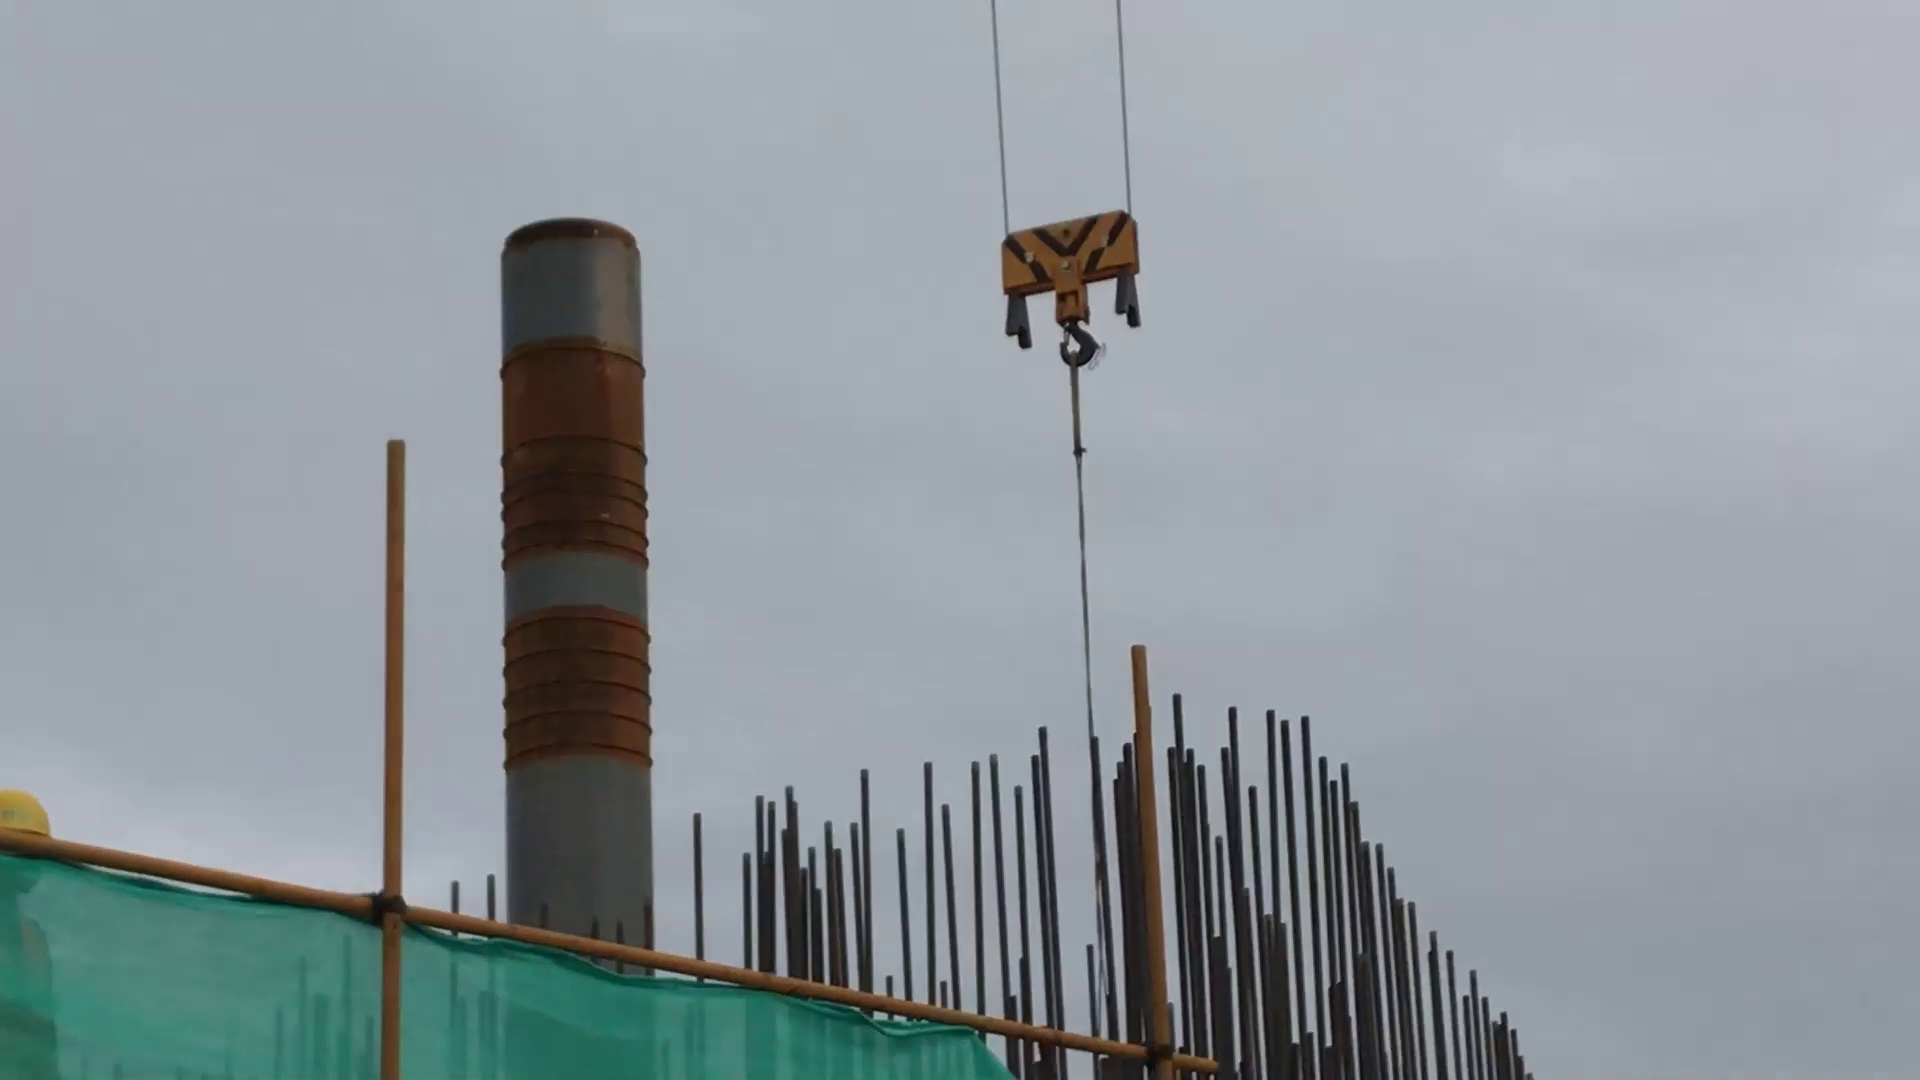hook: (986, 204, 1156, 375)
